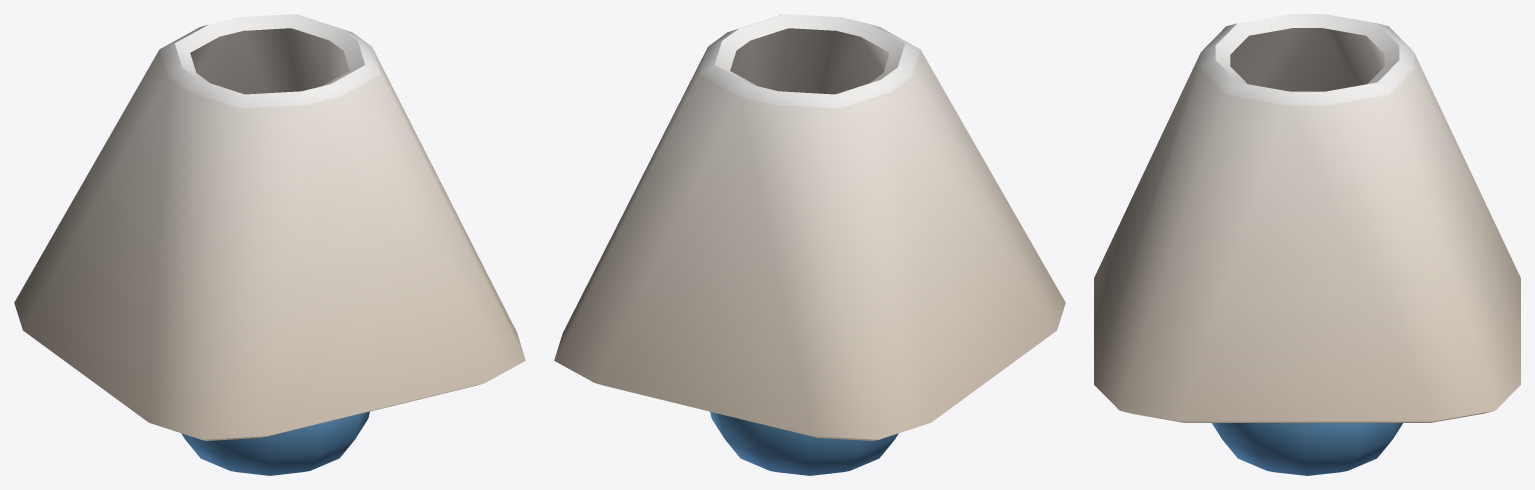
The model's file is table-lamp.glb.
3 views of the same model, side by side, from view 1: azimuth 30°, elevation 25°; view 2: azimuth 150°, elevation 25°; view 3: azimuth 270°, elevation 25° (orthographic).
Visible parts, largest first — view 1: lamp_table; view 2: lamp_table; view 3: lamp_table.
Part boxes in pixels (x1,y1,x2,y2): lamp_table: (14, 14, 525, 475); lamp_table: (554, 14, 1065, 475); lamp_table: (1094, 14, 1520, 475).
Bounding box in the file's own units: 1 × 1.02 × 1.
Materials: 1 (1 with a texture image).
